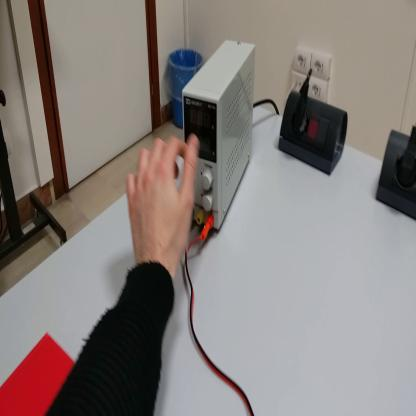hand: (126, 134, 199, 267)
power supply: (183, 42, 258, 233)
register: (2, 324, 76, 416)
socket: (276, 89, 349, 176), (378, 127, 416, 220)
